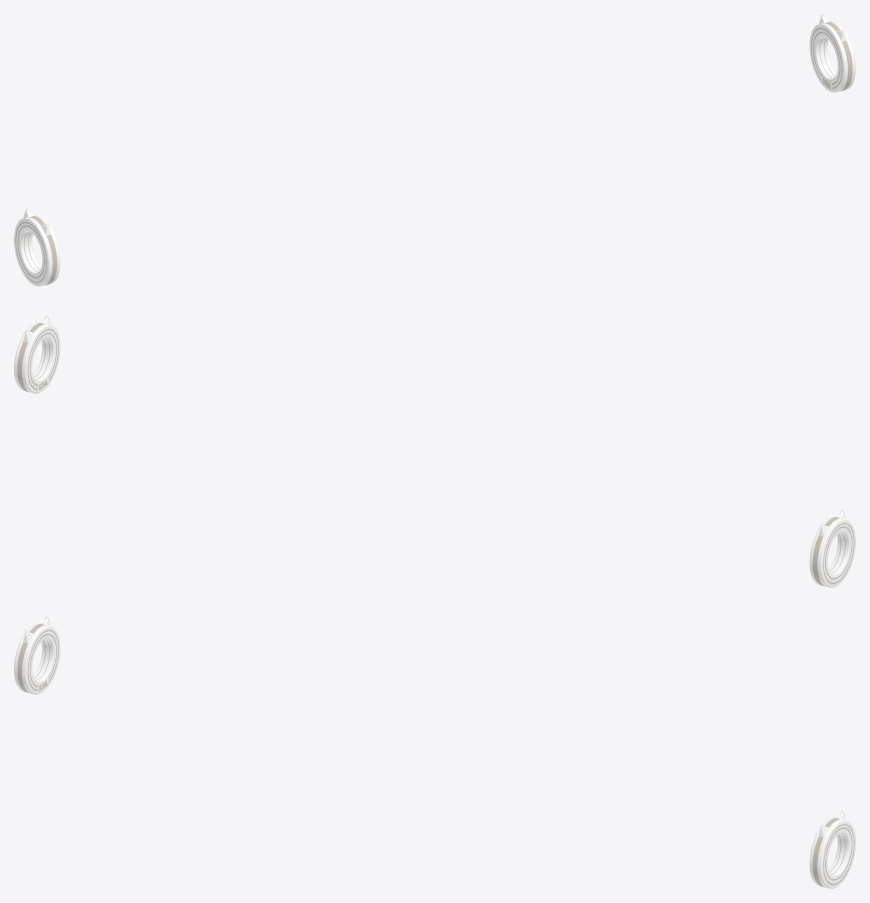
File: goal.glb
3 views of the same model, one above another, from view 1: azimuth 30°, elevation 25°; view 2: azimuth 150°, elevation 25°; view 3: azimuth 330°, elevation 25° (orthographic).
Parts seen in each view (by area): view 1: Goal Union.001, Goal Union.002; view 2: Goal Union.002, Goal Union.001; view 3: Goal Union.001, Goal Union.002.
Boxes of the visible parts, box(x1,y1,x2,y2) form: Goal Union.001: box(809, 14, 855, 92); Goal Union.002: box(14, 208, 60, 286); Goal Union.002: box(809, 509, 855, 587); Goal Union.001: box(14, 315, 60, 393); Goal Union.001: box(809, 810, 855, 888); Goal Union.002: box(14, 616, 60, 694).
Bounding box in the file's own units: 13.2 × 1.05 × 1.
Materials: 1 (1 with a texture image).
